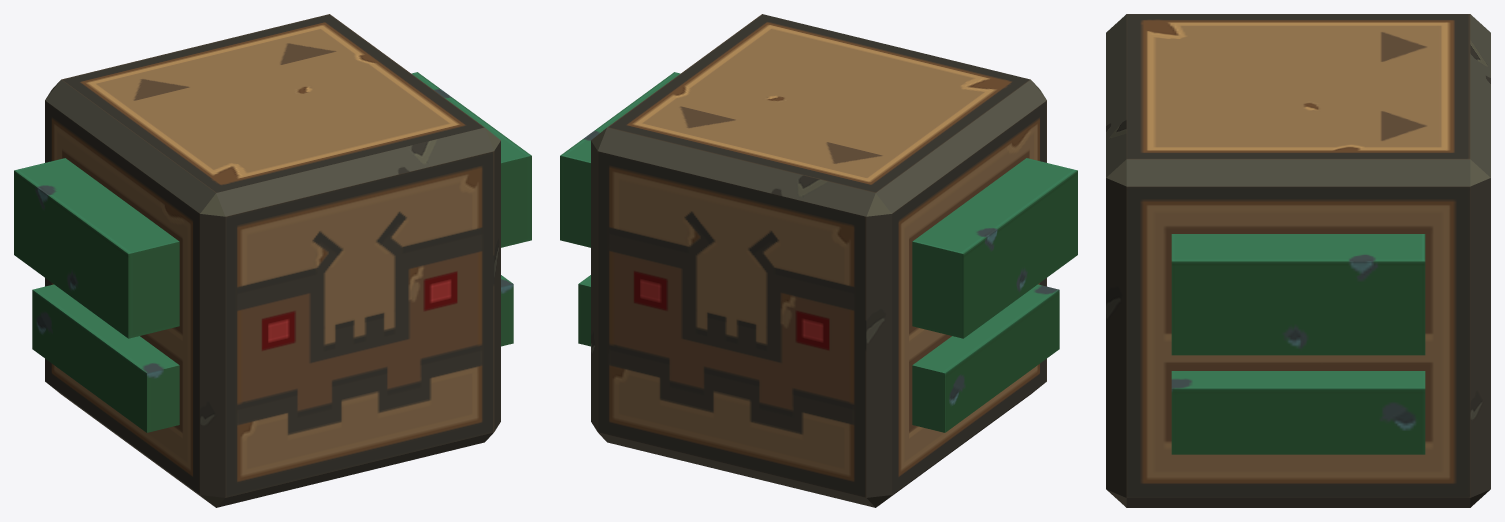
The model's file is BG_057_stonestatue.FBX.
3 renders of one model, left to right at view 1: azimuth 30°, elevation 25°; view 2: azimuth 150°, elevation 25°; view 3: azimuth 270°, elevation 25°, orthographic. The views are drawn at different scales.
Visible parts, largest first — view 1: BG_057_stonestatue; view 2: BG_057_stonestatue; view 3: BG_057_stonestatue.
Part boxes in pixels (box(x1,y1,x2,y2)): BG_057_stonestatue: box(14, 14, 531, 507); BG_057_stonestatue: box(560, 14, 1077, 507); BG_057_stonestatue: box(1106, 14, 1490, 507).
Size of the model in its own units: 117 by 87.52 by 87.52.
